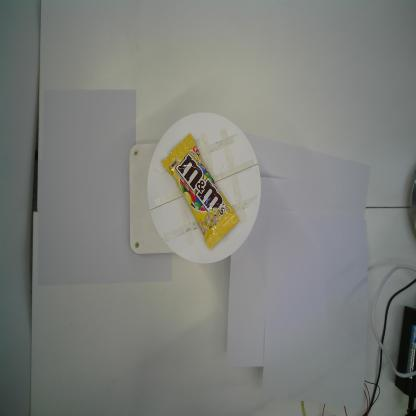Chocolate: (161, 132, 240, 250)
